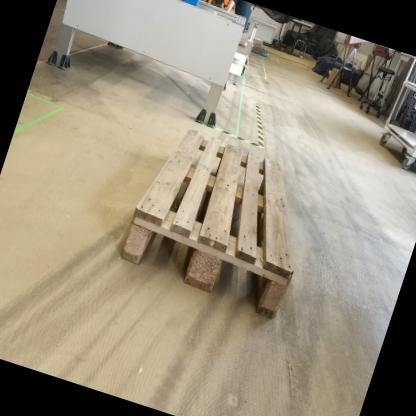BoxFace: (115, 120, 297, 333)
